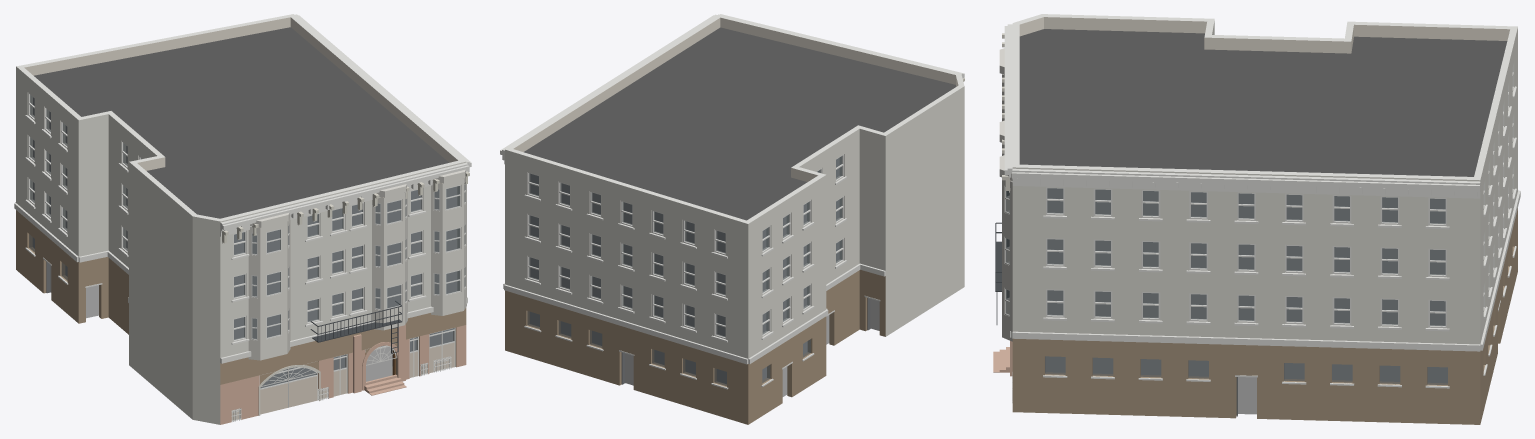
File: exterior.glb
3 renders of one model, left to right at view 1: azimuth 30°, elevation 25°; view 2: azimuth 150°, elevation 25°; view 3: azimuth 270°, elevation 25°, orthographic. The views are drawn at different scales.
Parts seen in each view (by area): view 1: shell, roof, bay-windows, shadow-proxy, trim, glazing, bay-glazing, storefront, frames, hyC-arches-1, fire-escape, relief-1 (+1 smaller); view 2: shell, roof, glazing, shadow-proxy, trim, frames; view 3: shell, roof, trim, glazing, shadow-proxy, frames, bay-windows, bay-glazing.
Boxes of the visible parts, box(x1,y1,x2,y2) form: shell: box(16, 14, 466, 424); roof: box(34, 27, 448, 218); bay-windows: box(248, 169, 466, 360); shadow-proxy: box(33, 97, 456, 387); trim: box(14, 14, 471, 363); glazing: box(29, 95, 454, 388); bay-glazing: box(251, 182, 466, 340); storefront: box(43, 257, 455, 421); frames: box(28, 93, 423, 341); hyC-arches-1: box(258, 342, 406, 415); fire-escape: box(310, 301, 402, 342); relief-1: box(353, 324, 405, 393); shell: box(505, 14, 964, 424); roof: box(524, 27, 956, 220); glazing: box(527, 156, 841, 386); shadow-proxy: box(530, 158, 879, 396); trim: box(500, 14, 964, 389); frames: box(527, 154, 843, 339); shell: box(1012, 14, 1517, 424); roof: box(1019, 29, 1507, 176); trim: box(1004, 24, 1520, 388); glazing: box(1045, 188, 1447, 384); shadow-proxy: box(1045, 188, 1447, 414); frames: box(1046, 63, 1513, 328); bay-windows: box(999, 48, 1012, 341); bay-glazing: box(1004, 186, 1010, 316).
Bounding box in the file's own units: 19.21 × 12.95 × 25.28.
